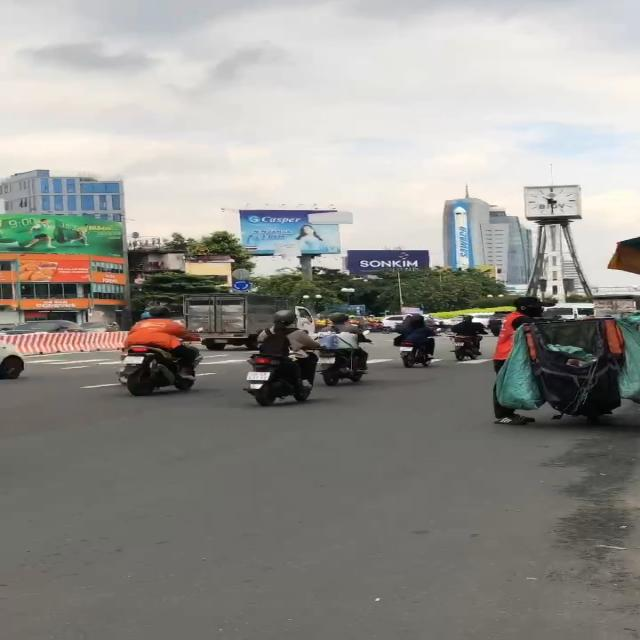Bien bao noi giao nhau chay theo vong xuyen: (229, 280, 251, 291)
